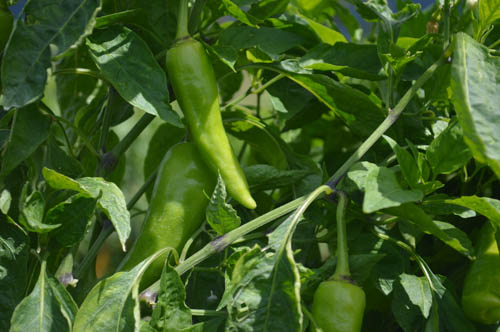ChiliPepper: (169, 41, 261, 207), (118, 140, 215, 290), (310, 282, 362, 332)
